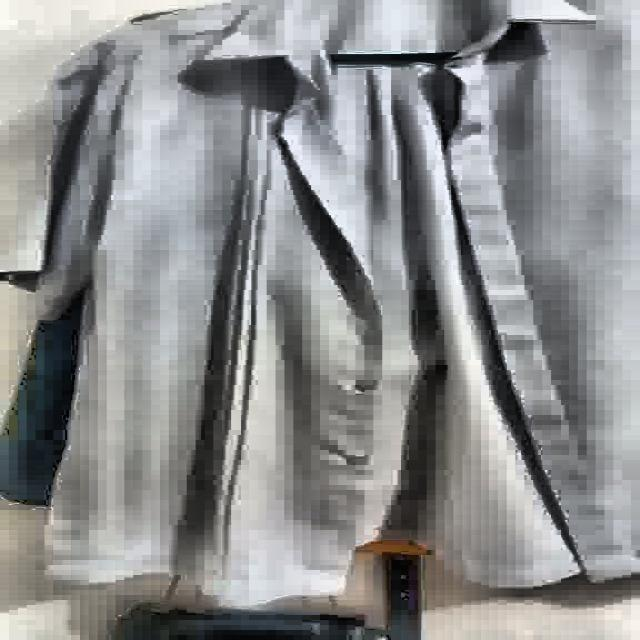clothes: (14, 0, 632, 604)
